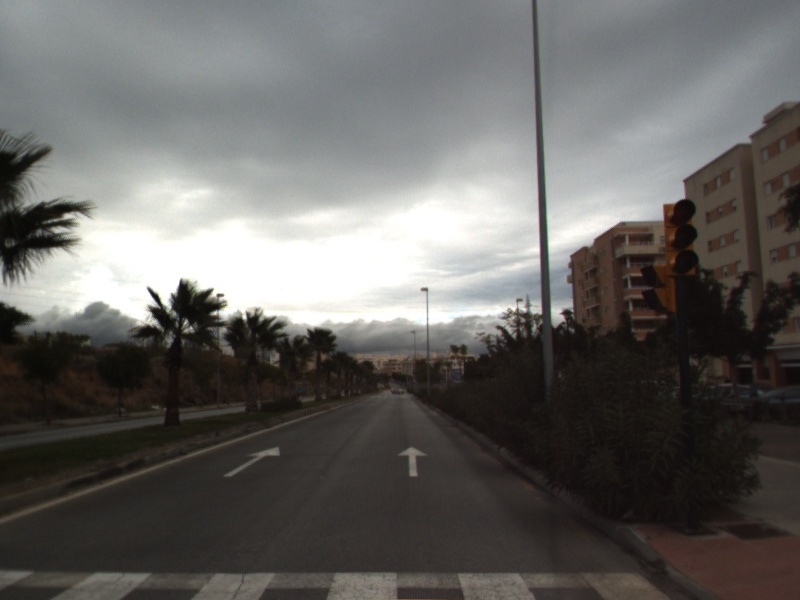STRAIGHT: (222, 445, 282, 479), (396, 444, 430, 478)
